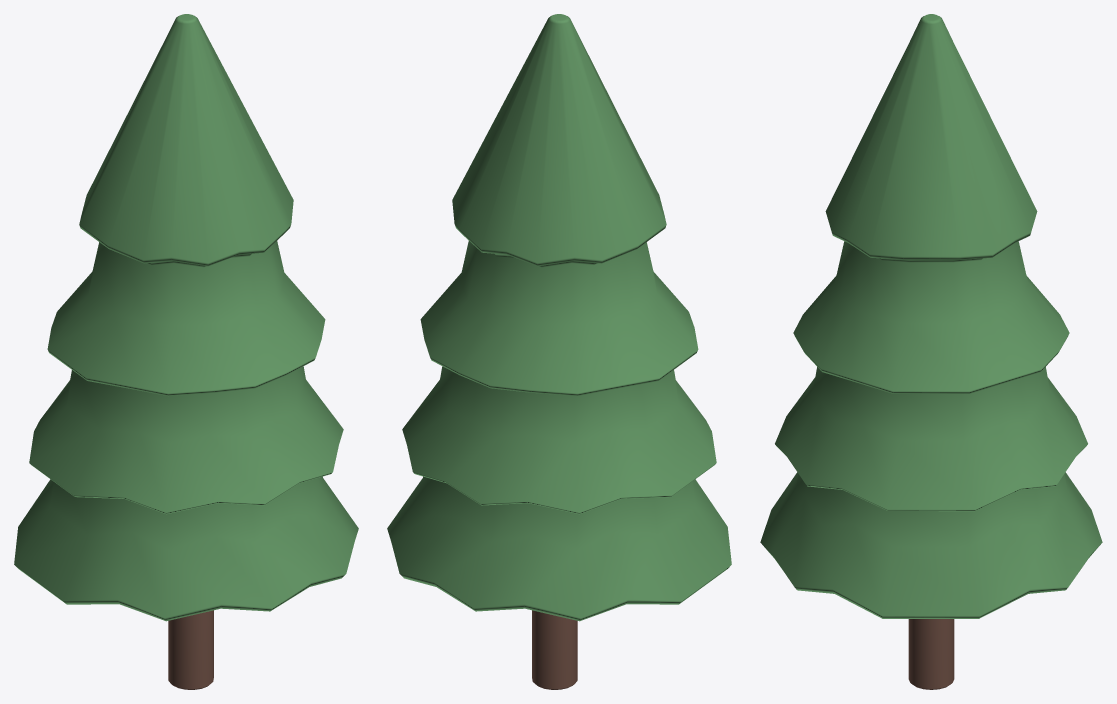
The model's file is Tree1.fbx.
3 renders of one model, left to right at view 1: azimuth 30°, elevation 25°; view 2: azimuth 150°, elevation 25°; view 3: azimuth 270°, elevation 25°, orthographic.
Parts seen in each view (by area): view 1: Tree1; view 2: Tree1; view 3: Tree1.
Boxes of the visible parts, x1,y1,x2,y2 form: Tree1: (14, 14, 358, 689); Tree1: (387, 14, 731, 689); Tree1: (760, 14, 1102, 689).
Size of the model in its own units: 5.66 by 12.18 by 5.71.
